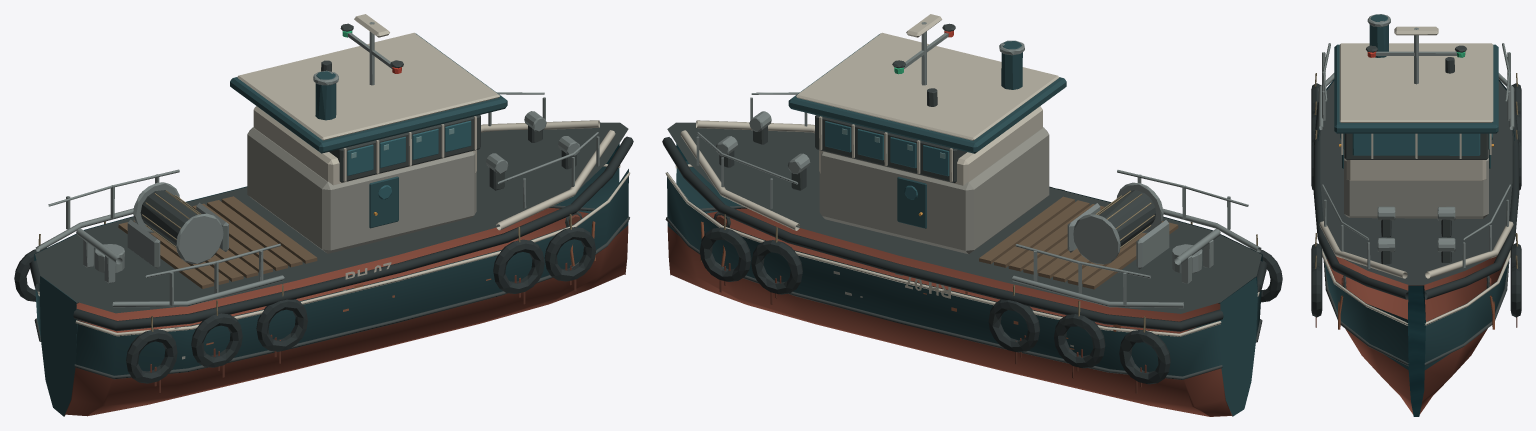
Rendered from c1-harbor-tug-lod.glb.
3 renders of one model, left to right at view 1: azimuth 30°, elevation 25°; view 2: azimuth 150°, elevation 25°; view 3: azimuth 270°, elevation 25°, orthographic. The views are drawn at different scales.
Visible parts, largest first — view 1: RH07 • four-draw batched display mesh; view 2: RH07 • four-draw batched display mesh; view 3: RH07 • four-draw batched display mesh.
Boxes of the visible parts, x1,y1,x2,y2 form: RH07 • four-draw batched display mesh: (14, 14, 633, 416); RH07 • four-draw batched display mesh: (662, 14, 1282, 416); RH07 • four-draw batched display mesh: (1311, 14, 1521, 416).
Bounding box in the file's own units: 16.71 × 8.72 × 5.95.
Materials: 4 (1 with a texture image).
